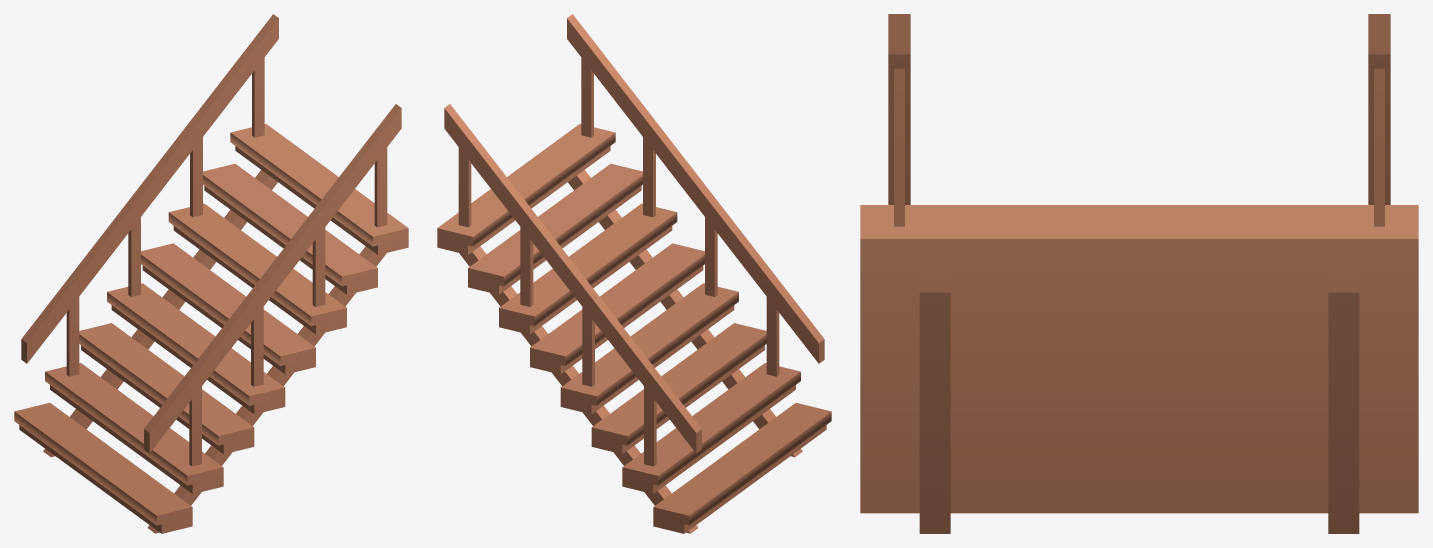
Rendered from stairs-wide-wood-handrail.glb.
3 renders of one model, left to right at view 1: azimuth 30°, elevation 25°; view 2: azimuth 150°, elevation 25°; view 3: azimuth 270°, elevation 25°, orthographic. The views are drawn at different scales.
Visible parts, largest first — view 1: stairs-wide-wood-handrail; view 2: stairs-wide-wood-handrail; view 3: stairs-wide-wood-handrail.
Boxes of the visible parts, x1,y1,x2,y2 form: stairs-wide-wood-handrail: (14,14,408,533); stairs-wide-wood-handrail: (437,14,831,533); stairs-wide-wood-handrail: (860,14,1418,533).
Bounding box in the file's own units: 1.02 × 1.45 × 1.
Materials: 1 (1 with a texture image).
